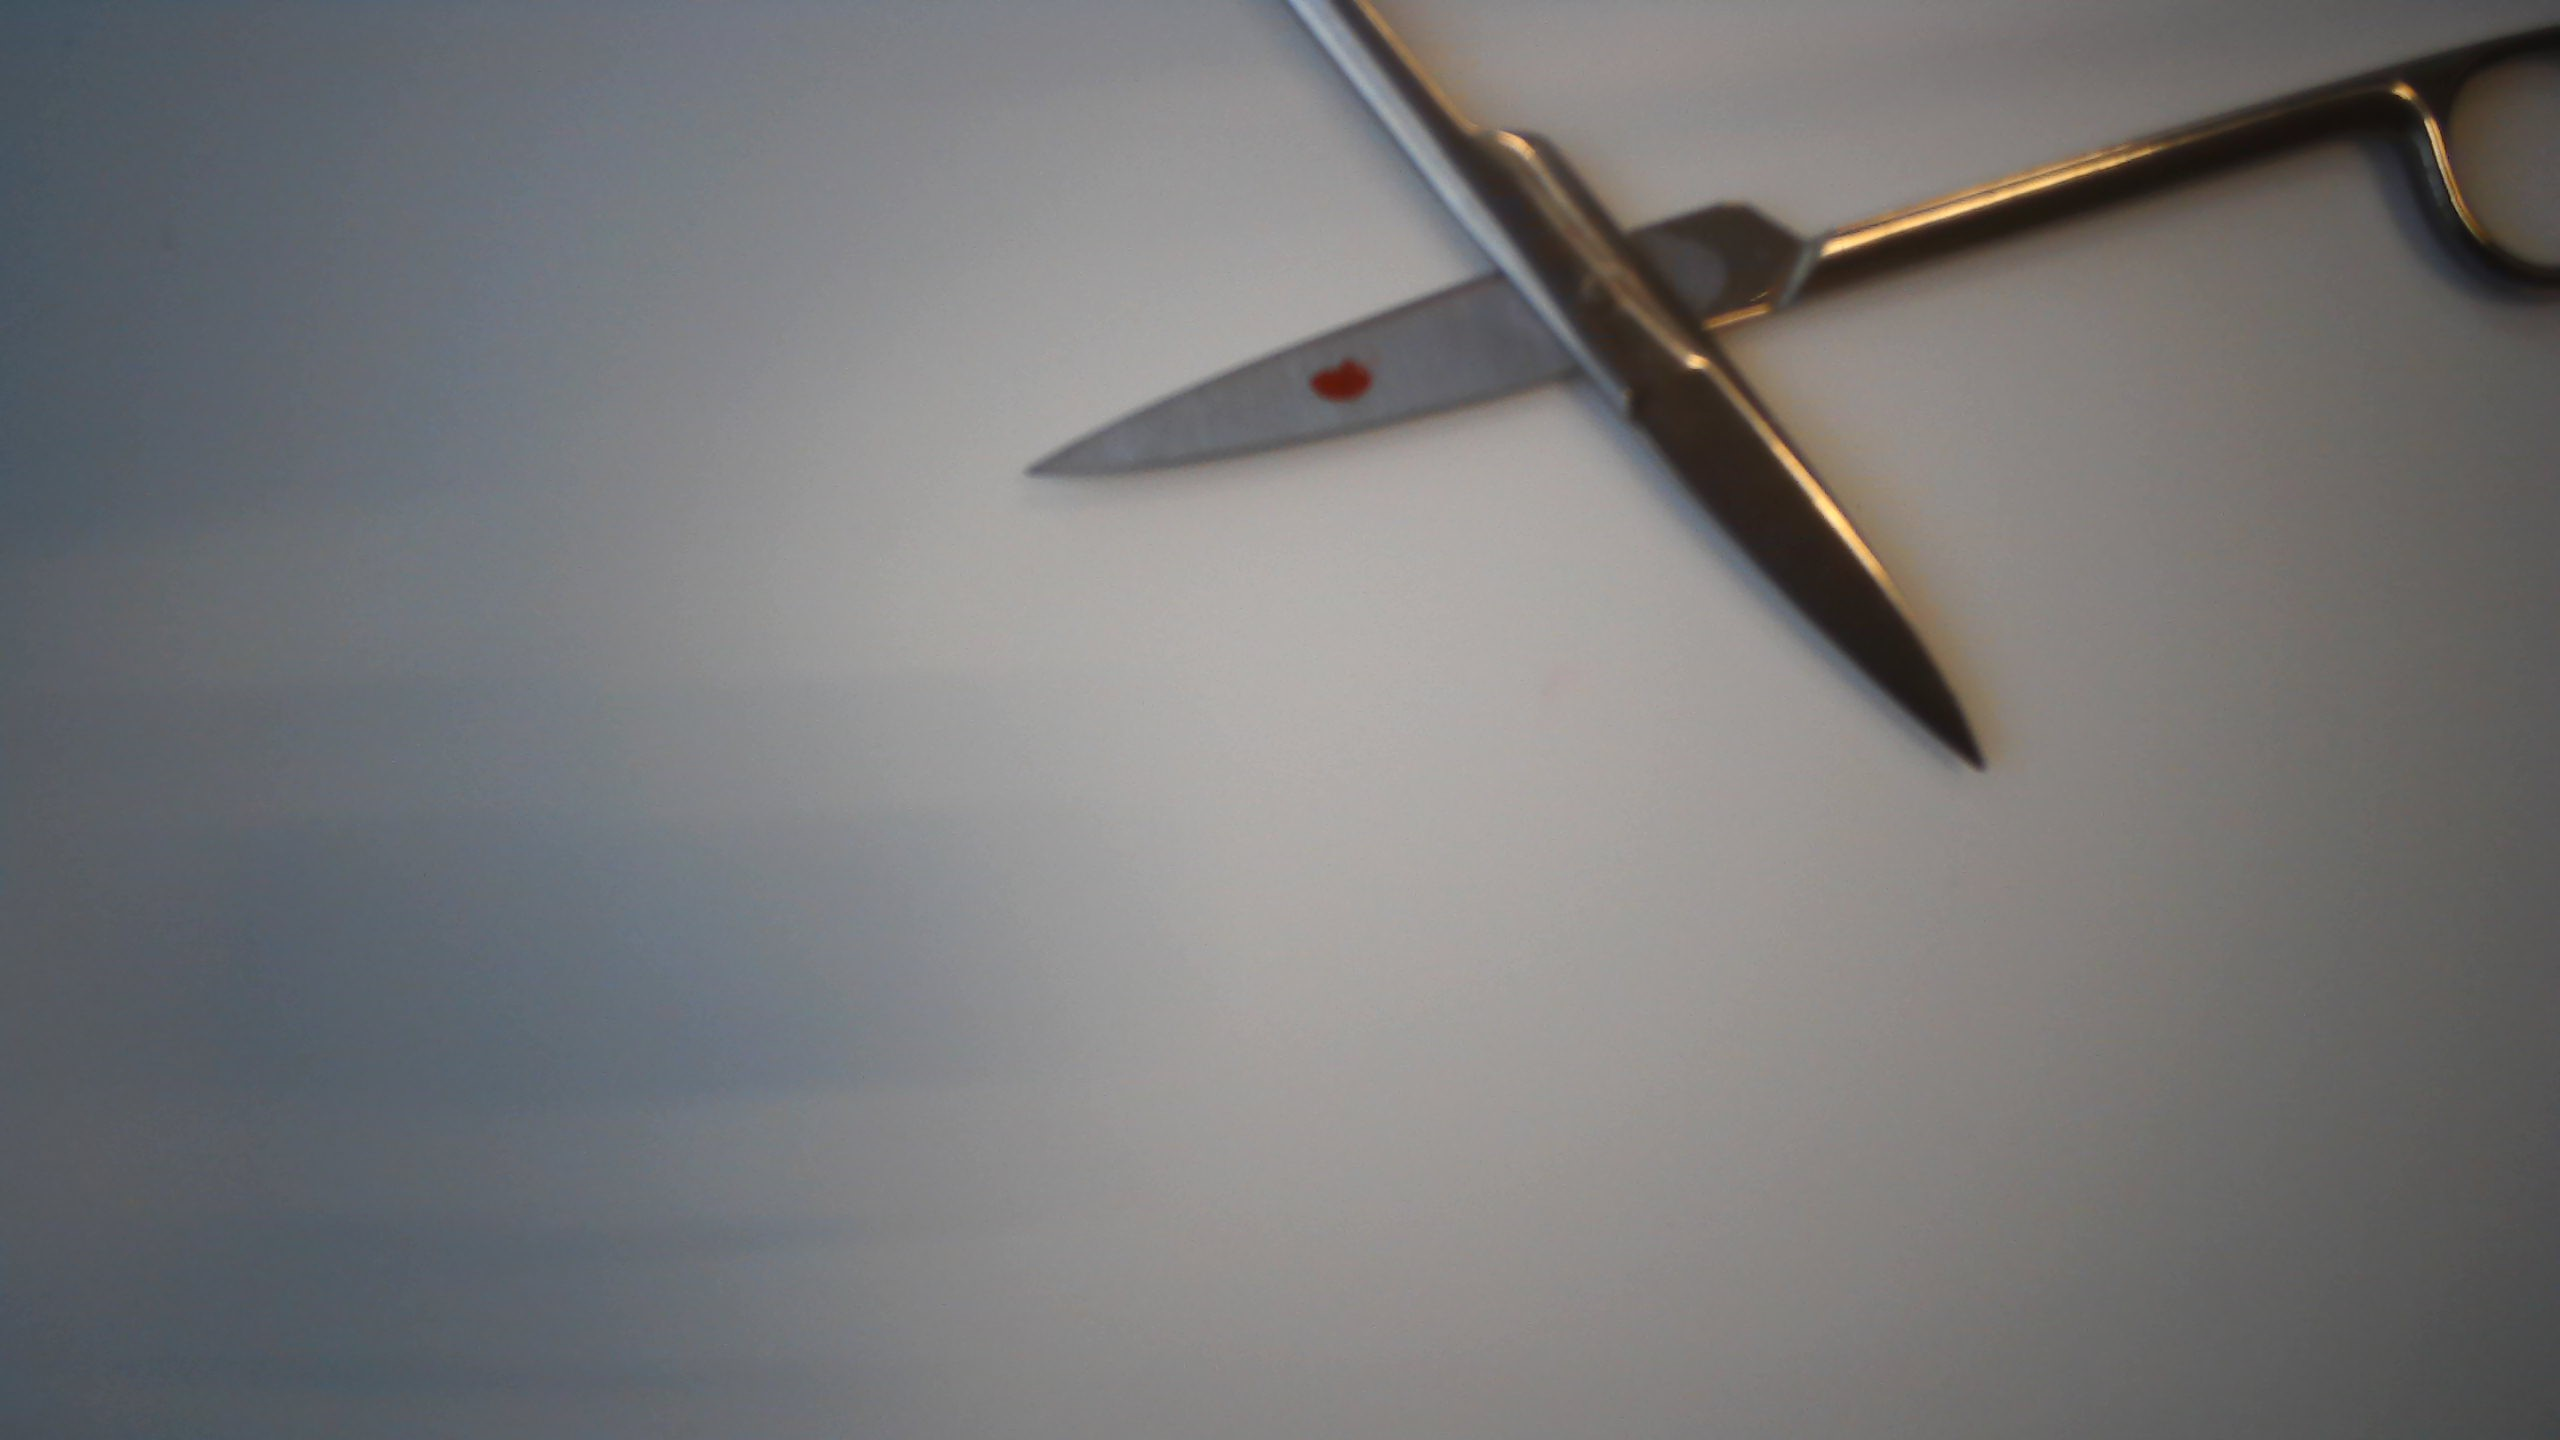Stain: (1296, 350, 1378, 413)
